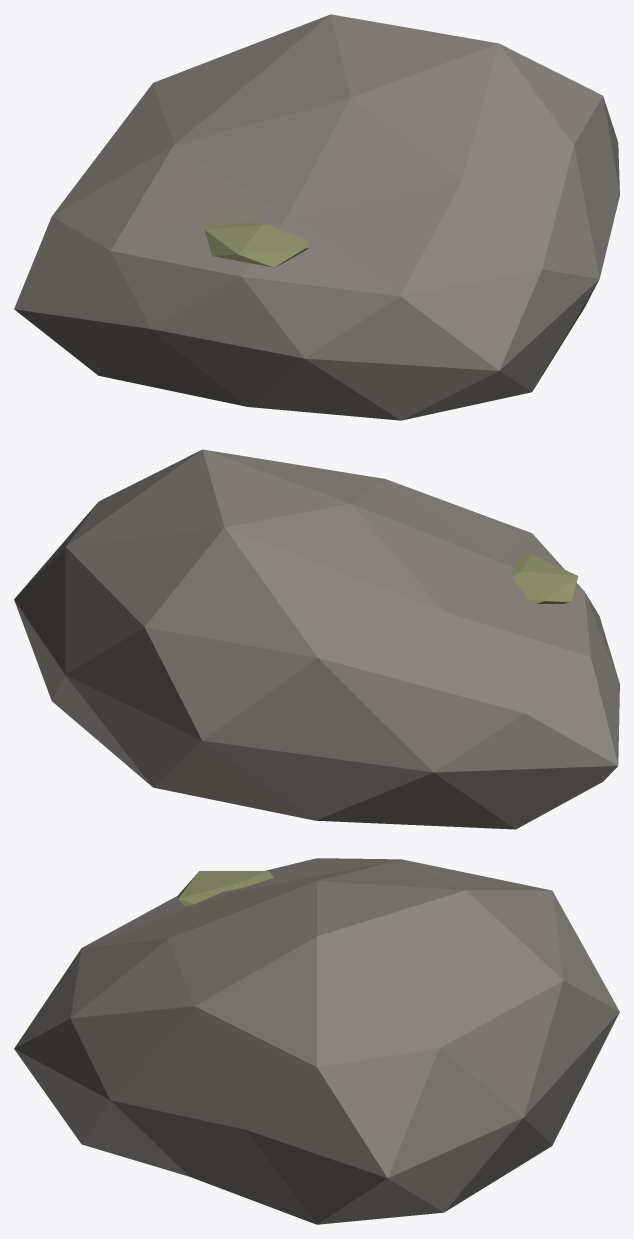
3 views of the same model, one above another, from view 1: azimuth 30°, elevation 25°; view 2: azimuth 150°, elevation 25°; view 3: azimuth 270°, elevation 25° (orthographic).
Visible parts, largest first — view 1: BeachRock; view 2: BeachRock; view 3: BeachRock.
Part boxes in pixels (<box>): BeachRock: <box>14,14,619,420</box>; BeachRock: <box>14,449,619,829</box>; BeachRock: <box>14,858,619,1224</box>.
Size of the model in its own units: 1.12 by 0.4725 by 0.9576.
